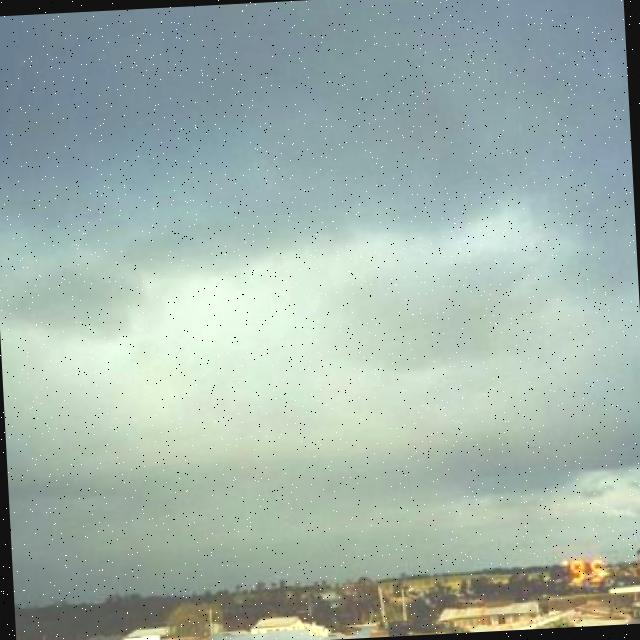Ns: (1, 114, 640, 503)
